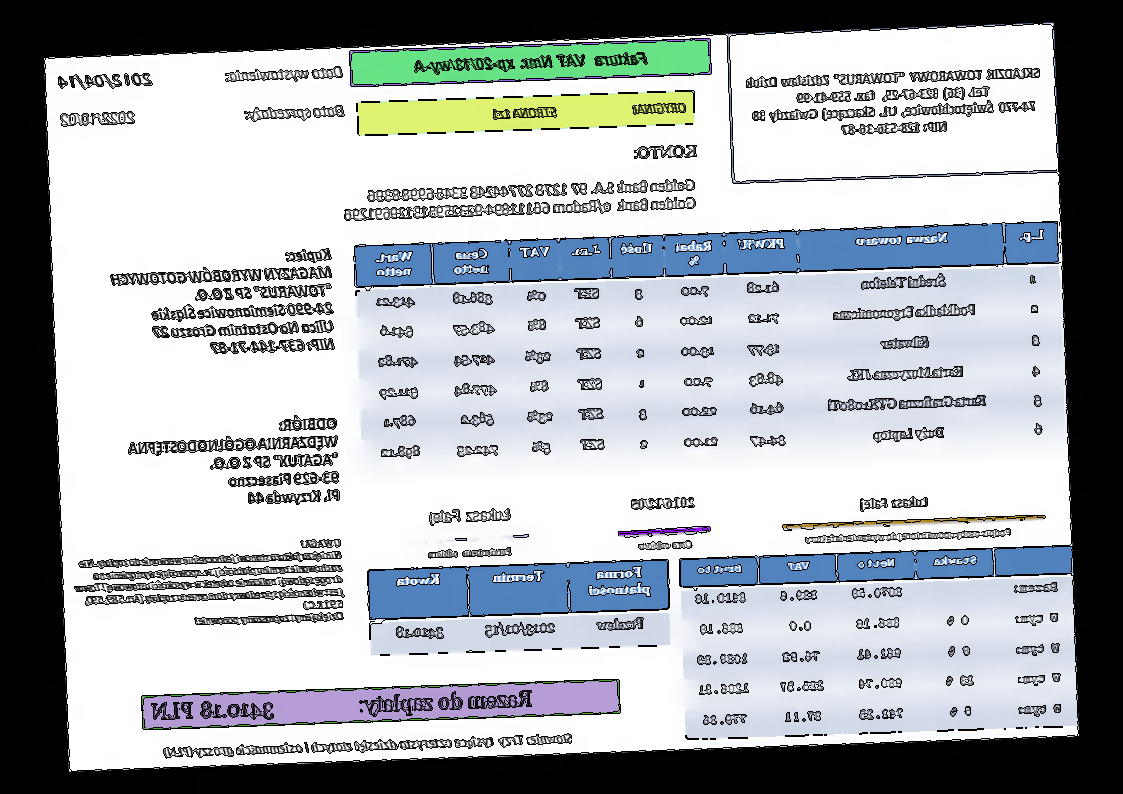Table: (353, 220, 1067, 472), (679, 546, 1078, 739), (365, 557, 672, 657)
TextBox: (71, 537, 346, 631), (108, 246, 336, 359), (743, 64, 1043, 141), (127, 413, 341, 511), (339, 176, 698, 223), (149, 688, 534, 724), (160, 731, 574, 760), (412, 48, 651, 77), (804, 525, 1014, 547), (491, 100, 689, 121), (223, 62, 344, 85), (241, 102, 345, 124), (56, 69, 155, 90), (429, 506, 513, 528), (58, 109, 136, 128), (858, 494, 931, 513), (630, 493, 697, 513), (632, 142, 698, 160), (428, 546, 513, 559), (637, 537, 694, 553)
